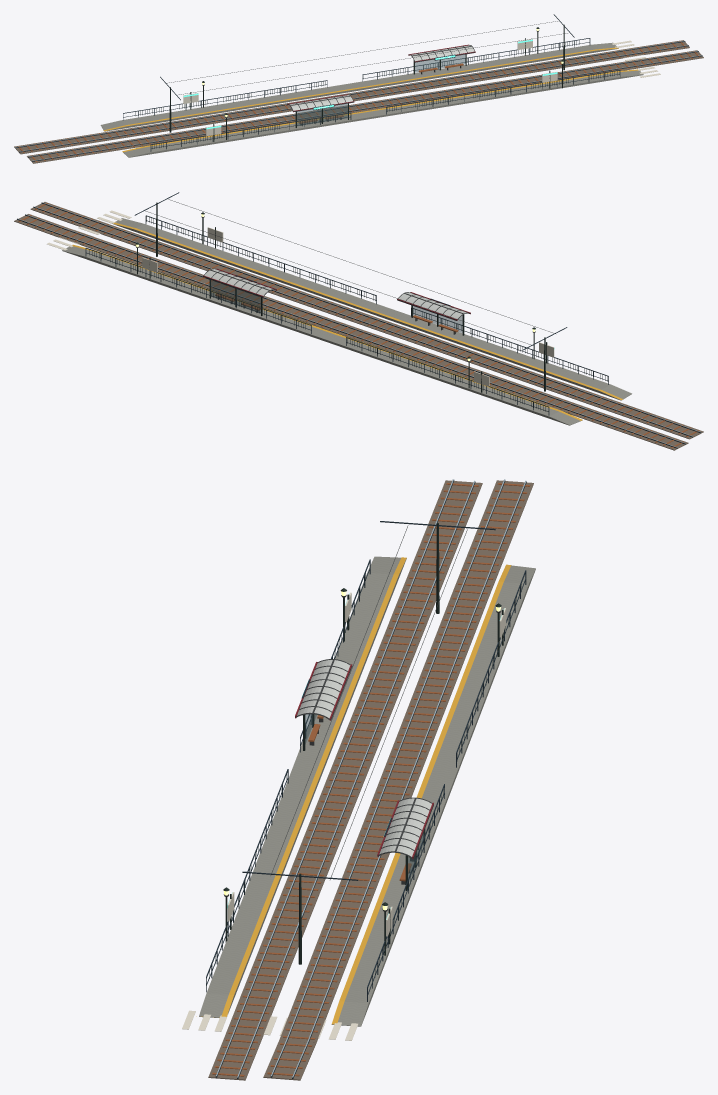
File: place-bucen.glb
The picture shows the model from 3 angles, top to bottom: view 1: azimuth 30°, elevation 25°; view 2: azimuth 150°, elevation 25°; view 3: azimuth 270°, elevation 25°; orthographic projection. The views are drawn at different scales.
Visible parts, largest first — view 1: B branch track 196203216.Ballast, B branch track 534703890.Ballast, Outbound platform.DeckConcrete, Inbound platform.DeckConcrete, B branch track 534703890.Iron, B branch track 196203216.Iron, B branch track 534703890.Alloy, B branch track 196203216.Alloy, Inbound platform.Iron, B branch track 196203216.Timber, B branch track 534703890.Timber, Outbound platform.Iron (+12 smaller); view 2: B branch track 534703890.Ballast, B branch track 196203216.Ballast, Inbound platform.DeckConcrete, Outbound platform.DeckConcrete, B branch track 534703890.Timber, B branch track 196203216.Timber, B branch track 534703890.Iron, B branch track 196203216.Iron, B branch track 534703890.Alloy, B branch track 196203216.Alloy, Outbound platform.Iron, Inbound platform.Iron (+9 smaller); view 3: B branch track 534703890.Ballast, B branch track 196203216.Ballast, Inbound platform.DeckConcrete, Outbound platform.DeckConcrete, B branch track 534703890.Timber, B branch track 196203216.Timber, Inbound platform.Tactile, Outbound platform.Tactile, B branch track 534703890.Alloy, B branch track 196203216.Alloy, Inbound shelter.WhiteAluminium, Outbound shelter.WhiteAluminium (+5 smaller).
Part boxes in pixels (x1,y1,x2,y2): B branch track 196203216.Ballast: (14, 40, 689, 154); B branch track 534703890.Ballast: (27, 50, 703, 163); Outbound platform.DeckConcrete: (100, 42, 618, 131); Inbound platform.DeckConcrete: (123, 70, 643, 157); B branch track 534703890.Iron: (28, 51, 702, 161); B branch track 196203216.Iron: (15, 41, 688, 152); B branch track 534703890.Alloy: (28, 51, 702, 160); B branch track 196203216.Alloy: (15, 41, 688, 151); Inbound platform.Iron: (150, 70, 620, 151); B branch track 196203216.Timber: (18, 41, 686, 152); B branch track 534703890.Timber: (31, 51, 700, 162); Outbound platform.Iron: (123, 38, 590, 120); B branch track 534703890.Ballast: (30, 202, 703, 439); B branch track 196203216.Ballast: (14, 214, 688, 450); Inbound platform.DeckConcrete: (114, 218, 631, 400); Outbound platform.DeckConcrete: (62, 246, 582, 425); B branch track 534703890.Timber: (34, 203, 699, 437); B branch track 196203216.Timber: (18, 215, 683, 448); B branch track 534703890.Iron: (33, 202, 701, 437); B branch track 196203216.Iron: (17, 214, 685, 448); B branch track 534703890.Alloy: (33, 202, 700, 436); B branch track 196203216.Alloy: (17, 214, 685, 447); Outbound platform.Iron: (85, 247, 549, 415); Inbound platform.Iron: (145, 215, 608, 384); B branch track 534703890.Ballast: (208, 480, 482, 1080); B branch track 196203216.Ballast: (263, 480, 533, 1080); Inbound platform.DeckConcrete: (199, 556, 406, 1017); Outbound platform.DeckConcrete: (331, 565, 535, 1026); B branch track 534703890.Timber: (212, 483, 478, 1076); B branch track 196203216.Timber: (267, 483, 530, 1076); Inbound platform.Tactile: (196, 557, 406, 1017); Outbound platform.Tactile: (332, 564, 511, 1024); B branch track 534703890.Alloy: (216, 479, 474, 1077); B branch track 196203216.Alloy: (271, 479, 526, 1077); Inbound shelter.WhiteAluminium: (297, 660, 350, 718); Outbound shelter.WhiteAluminium: (379, 798, 431, 856).
Size of the model in its own units: 94.43 by 6.61 by 23.57.
Materials: 15 (1 with a texture image).
